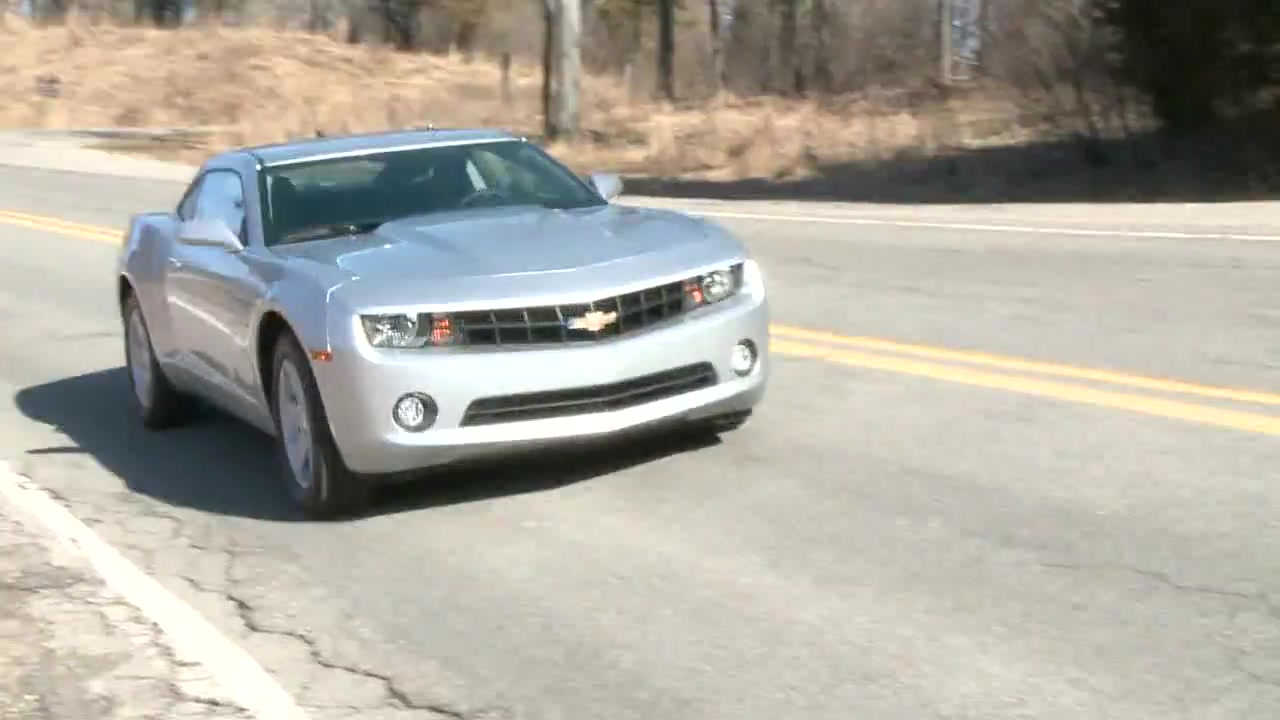car: (116, 128, 773, 516)
